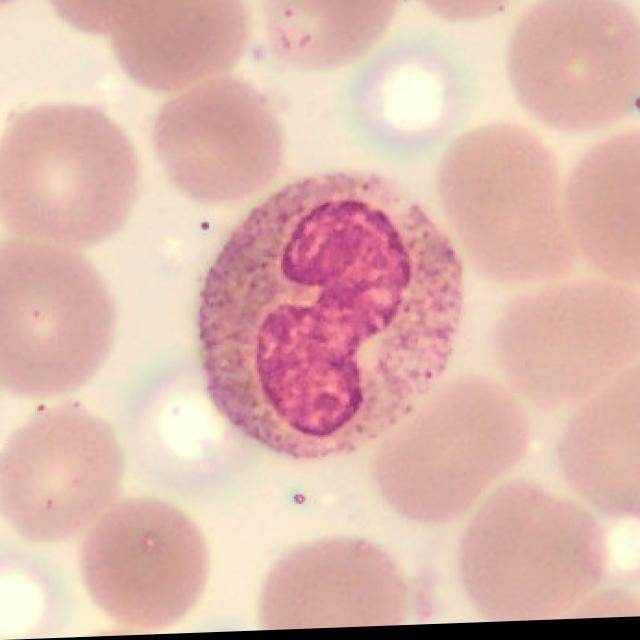Bastonete: (198, 174, 464, 464)
